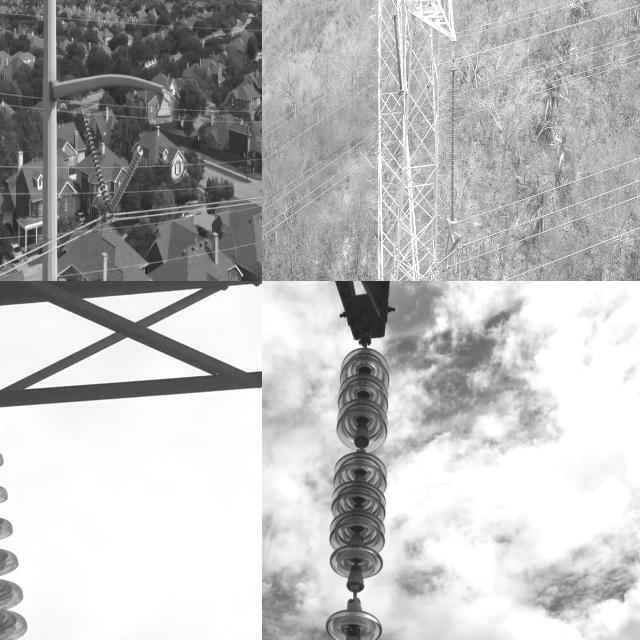杆塔: (368, 0, 464, 281)
正常绝缘子: (322, 320, 392, 640), (0, 401, 53, 640), (81, 119, 145, 213), (448, 66, 458, 228), (391, 11, 404, 96)
绝缘子破损: (346, 574, 365, 606), (353, 436, 368, 456)
